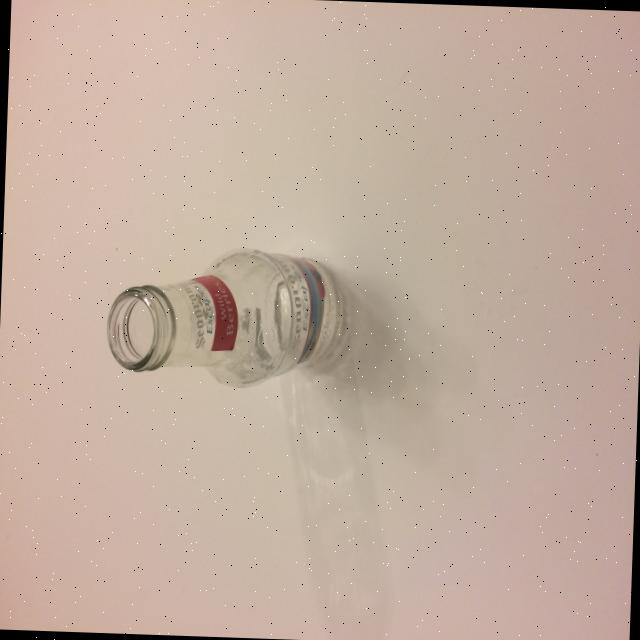glass: (104, 241, 348, 391)
